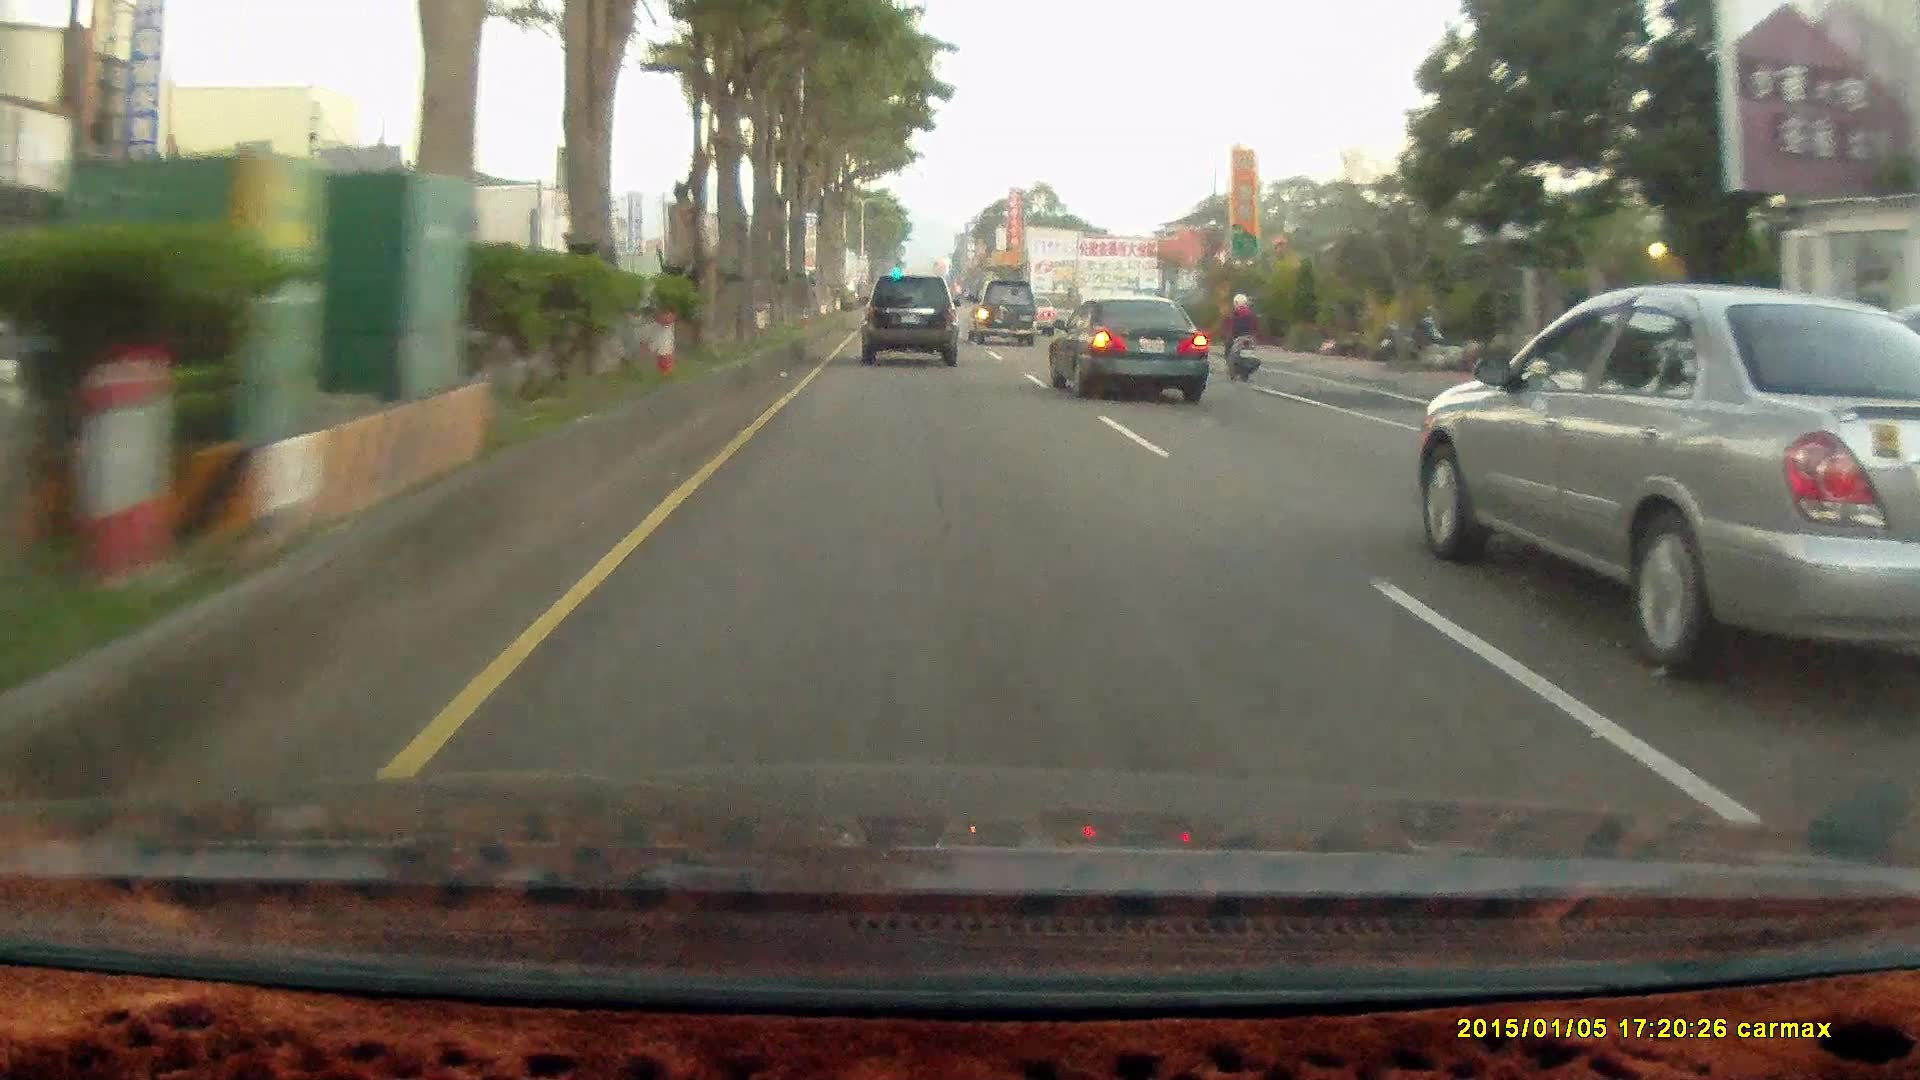rider: (1212, 283, 1269, 392), (1214, 288, 1262, 381)
vehicle: (1414, 293, 1918, 691), (1051, 297, 1216, 404), (1046, 294, 1209, 400), (861, 268, 964, 366), (857, 275, 957, 368), (967, 278, 1043, 347), (965, 280, 1040, 347)
